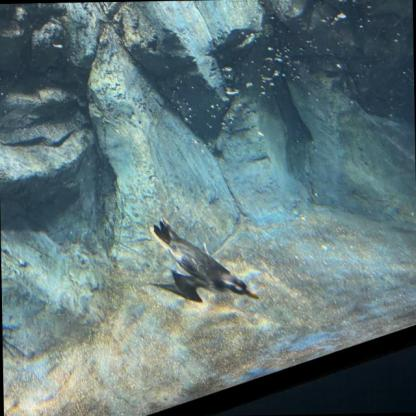puffin: (148, 215, 262, 304)
